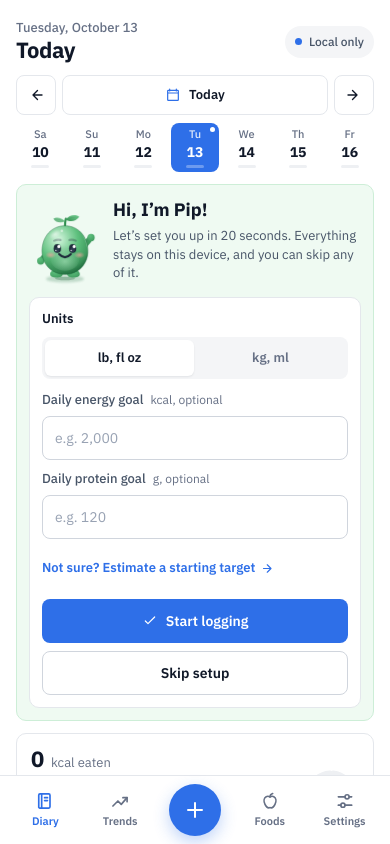
mobile navigation › opens the Log food dialog from the centre button
Step 1. Click the button named "Log food" → click(195, 810), box 169,784 -> 221,836
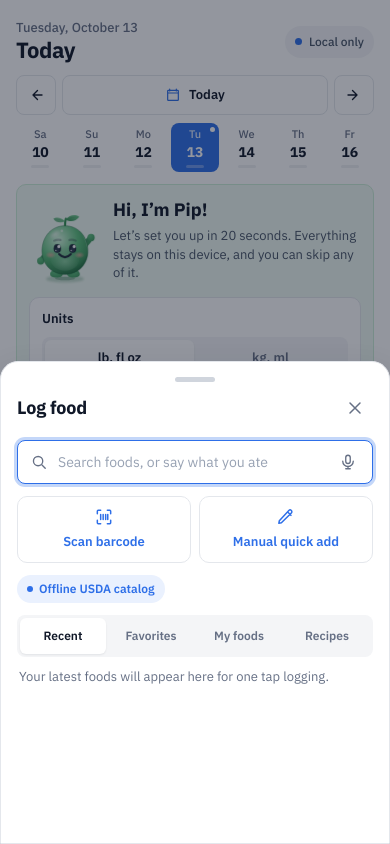
Expected: the dialog is shown, 0,361 -> 389,843
